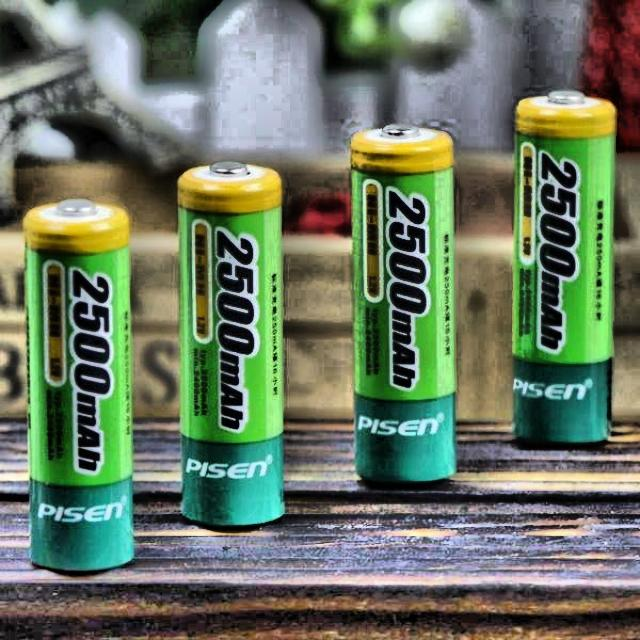Non-Valuable Waste - Batteries: (24, 200, 134, 571), (178, 162, 284, 527), (351, 125, 456, 483), (512, 90, 615, 444)
